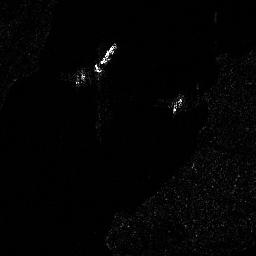ship: (95, 40, 118, 77)
